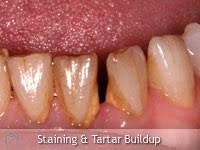Tooth Discoloration: (32, 54, 152, 128)
